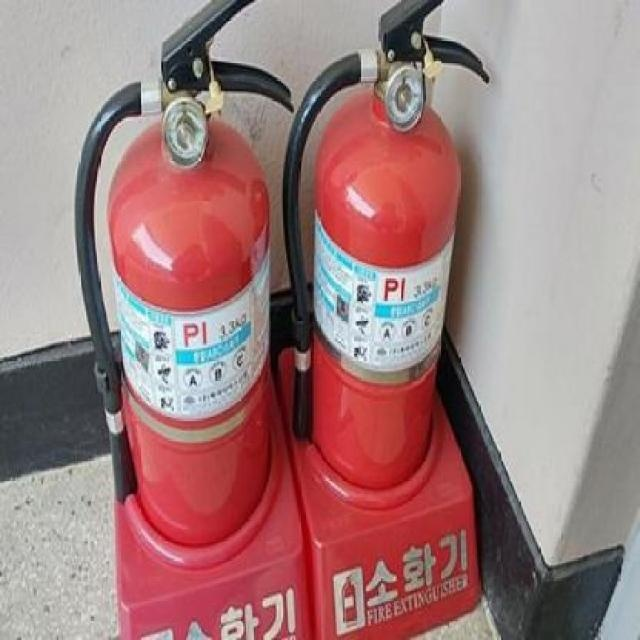fire extinguisher: (74, 0, 294, 548), (282, 0, 490, 486)
